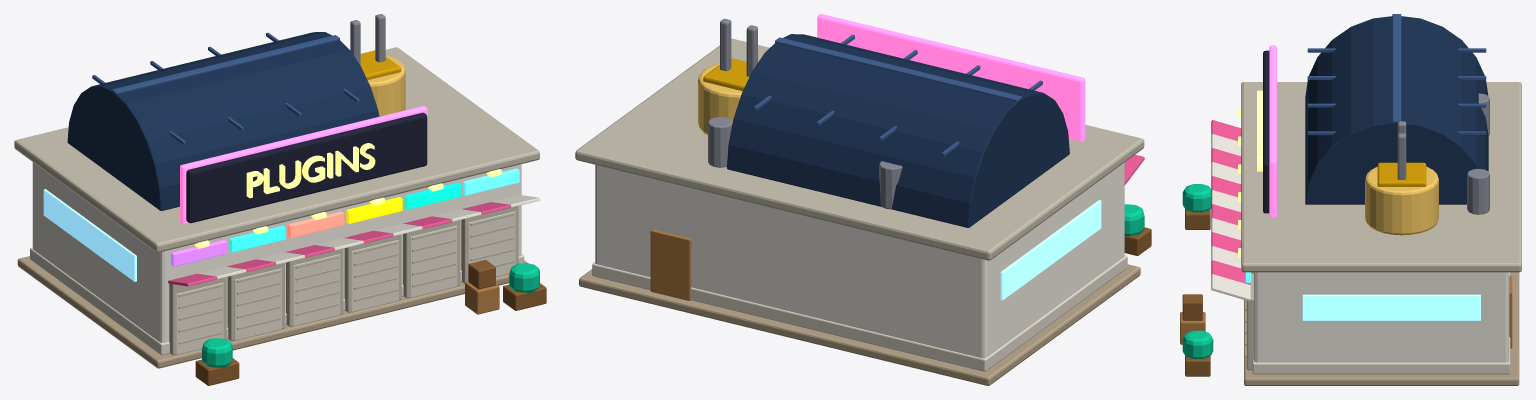
Rendered from plugin-docks-BdEzeo8S.glb.
The picture shows the model from 3 angles, left to right: view 1: azimuth 30°, elevation 25°; view 2: azimuth 150°, elevation 25°; view 3: azimuth 270°, elevation 25°; orthographic projection. The views are drawn at different scales.
Visible parts, largest first — view 1: solar_barrel, roof_slab, hall, sign_board, plinth, glass_band_l, bay_door_3, bay_door_1, bay_door_4, bay_door_2, bay_door_0, sign_rim (+25 smaller); view 2: hall, solar_barrel, roof_slab, plinth, sign_rim, base_band, glass_band_l, back_door, barrel_ridge, plug_body, vent_1, plug_face (+5 smaller); view 3: roof_slab, solar_barrel, hall, glass_band_r, plinth, plug_body, base_band, sign_rim, sign_board, plug_face, barrel_ridge, vent_1 (+21 smaller).
Part boxes in pixels (x1=…): solar_barrel: x1=67, y1=32, x2=379, y2=210; roof_slab: x1=14, y1=47, x2=539, y2=252; hall: x1=32, y1=162, x2=521, y2=342; sign_board: x1=186, y1=112, x2=427, y2=223; plinth: x1=17, y1=256, x2=528, y2=368; glass_band_l: x1=43, y1=189, x2=136, y2=281; bay_door_3: x1=351, y1=240, x2=398, y2=312; bay_door_1: x1=234, y1=268, x2=281, y2=340; bay_door_4: x1=410, y1=225, x2=457, y2=297; bay_door_2: x1=293, y1=254, x2=340, y2=326; bay_door_0: x1=176, y1=282, x2=223, y2=354; sign_rim: x1=180, y1=106, x2=427, y2=223; hall: x1=595, y1=162, x2=1124, y2=358; solar_barrel: x1=727, y1=34, x2=1069, y2=227; roof_slab: x1=575, y1=38, x2=1144, y2=260; plinth: x1=579, y1=264, x2=1140, y2=385; sign_rim: x1=817, y1=14, x2=1085, y2=141; base_band: x1=592, y1=255, x2=1127, y2=371; glass_band_l: x1=1000, y1=200, x2=1101, y2=300; back_door: x1=650, y1=229, x2=691, y2=300; barrel_ridge: x1=775, y1=37, x2=1021, y2=102; plug_body: x1=698, y1=63, x2=742, y2=134; vent_1: x1=708, y1=117, x2=732, y2=167; plug_face: x1=703, y1=58, x2=749, y2=91; roof_slab: x1=1241, y1=82, x2=1521, y2=272; solar_barrel: x1=1305, y1=16, x2=1488, y2=204; hall: x1=1254, y1=272, x2=1509, y2=362; glass_band_r: x1=1302, y1=294, x2=1480, y2=320; plinth: x1=1244, y1=272, x2=1519, y2=385; plug_body: x1=1365, y1=166, x2=1438, y2=235; base_band: x1=1252, y1=272, x2=1510, y2=374; sign_rim: x1=1269, y1=45, x2=1276, y2=217; sign_board: x1=1263, y1=50, x2=1269, y2=213; plug_face: x1=1377, y1=162, x2=1426, y2=186; barrel_ridge: x1=1392, y1=14, x2=1401, y2=122; vent_1: x1=1467, y1=169, x2=1489, y2=214.
Bounding box in the file's own units: 17 × 9.35 × 13.4.
